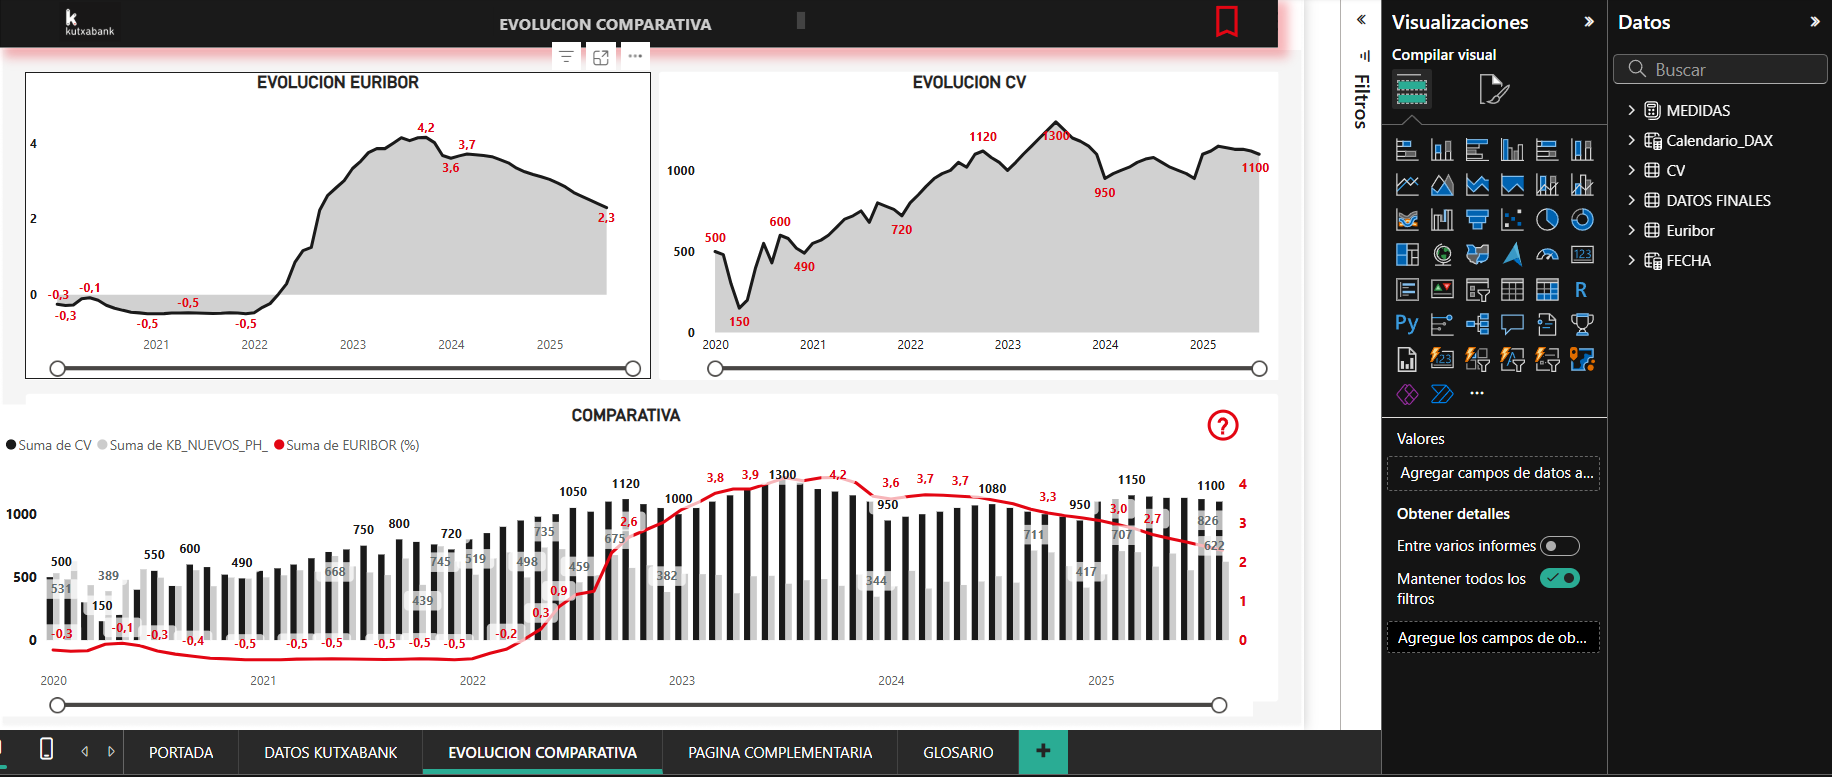

The page's visual inventory and layout, read from the dashboard file:
{"tool":"powerbi","page":{"name":"EVOLUCION COMPARATIVA","canvas":[1280,720],"ordinal":2},"visuals":[{"type":"shape","box":[0,0,1254.2,49.4],"z":0},{"type":"image","box":[24.7,0,127.6,49.4],"z":1000},{"type":"areaChart","title":"EVOLUCION EURIBOR","fields":{"Category":["Calendario_Tabla.FECHA"],"Y":["Sum(Euribor.EURIBOR (%))"]},"box":[24.7,74.1,614.8,301.9],"z":2000},{"type":"areaChart","title":"EVOLUCION CV","fields":{"Category":["Calendario_Tabla.FECHA"],"Y":["Sum(CV.CV)"]},"box":[649.1,74.1,605.1,301.9],"z":3000},{"type":"actionButton","box":[1154.6,3.7,99.4,40.5],"z":4000},{"type":"lineClusteredColumnComboChart","title":"COMPARATIVA","fields":{"Y":["Sum(CV.CV)","Sum(DATOS FINALES.KB_NUEVOS_PH_)"],"Y2":["Sum(Euribor.EURIBOR (%))"],"Category":["Calendario_DAX.FECHA"]},"box":[0,400,1229.5,305.5],"z":5000},{"type":"actionButton","box":[1180.4,400,99.4,40.5],"z":6000},{"type":"textbox","box":[484.7,9.8,310.4,28.2],"z":7000}]}

Visuals, with their boxes on the page's 1280x720 design canvas (x1, y1, x2, y2). These are canvas units, not pixel positions in the 1832x777 screenshot, which may show the page scaled, cropped or inside an application window:
shape: {"left": 0, "top": 0, "right": 1254, "bottom": 49}
image: {"left": 25, "top": 0, "right": 152, "bottom": 49}
"EVOLUCION EURIBOR" areaChart: {"left": 25, "top": 74, "right": 640, "bottom": 376}
"EVOLUCION CV" areaChart: {"left": 649, "top": 74, "right": 1254, "bottom": 376}
actionButton: {"left": 1155, "top": 4, "right": 1254, "bottom": 44}
"COMPARATIVA" lineClusteredColumnComboChart: {"left": 0, "top": 400, "right": 1230, "bottom": 706}
actionButton: {"left": 1180, "top": 400, "right": 1280, "bottom": 440}
textbox: {"left": 485, "top": 10, "right": 795, "bottom": 38}
